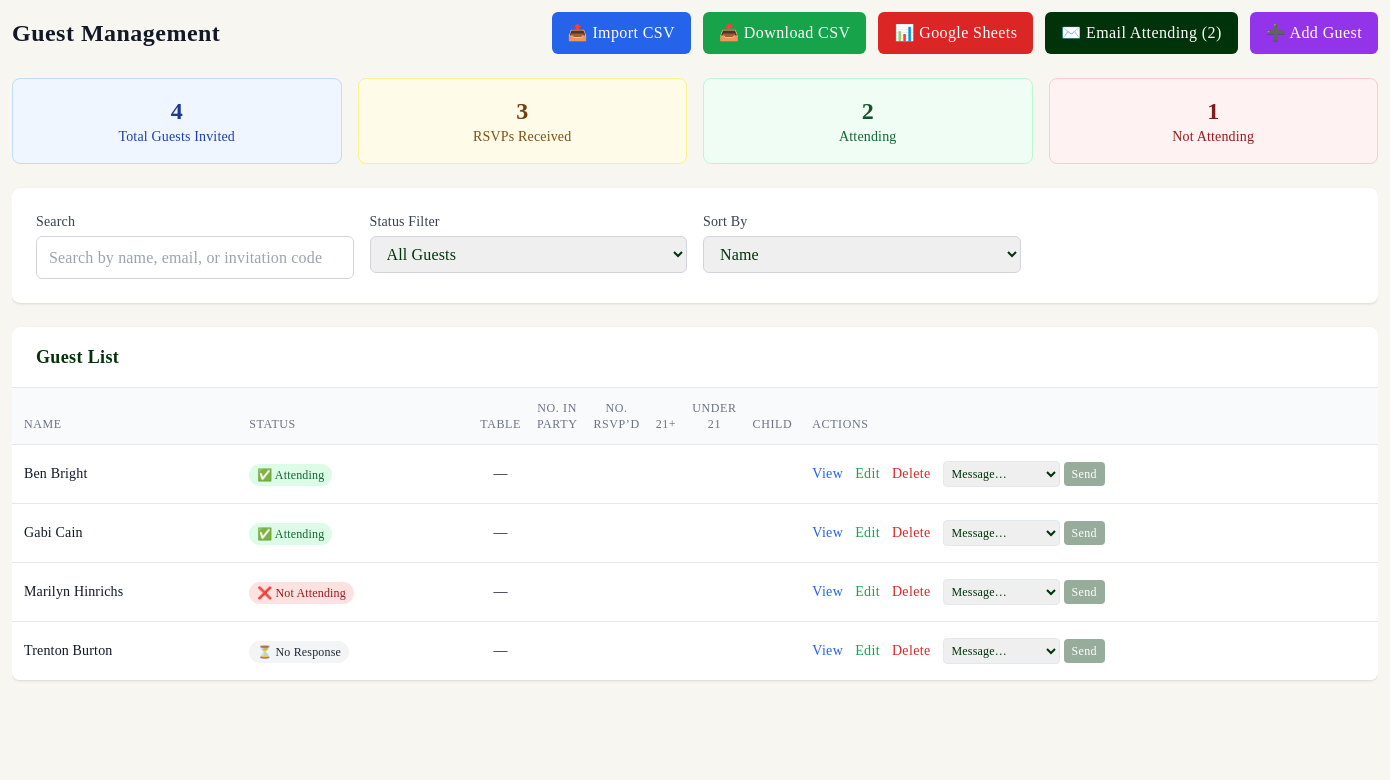
agrees with the RSVPs Received stat card
Expected: the text "Gabi Cain" is shown, [24,525,83,540]
Select "RSVPs Received" in the dropdown labelled "Status Filter" at [528, 254], box [370,236,687,273]
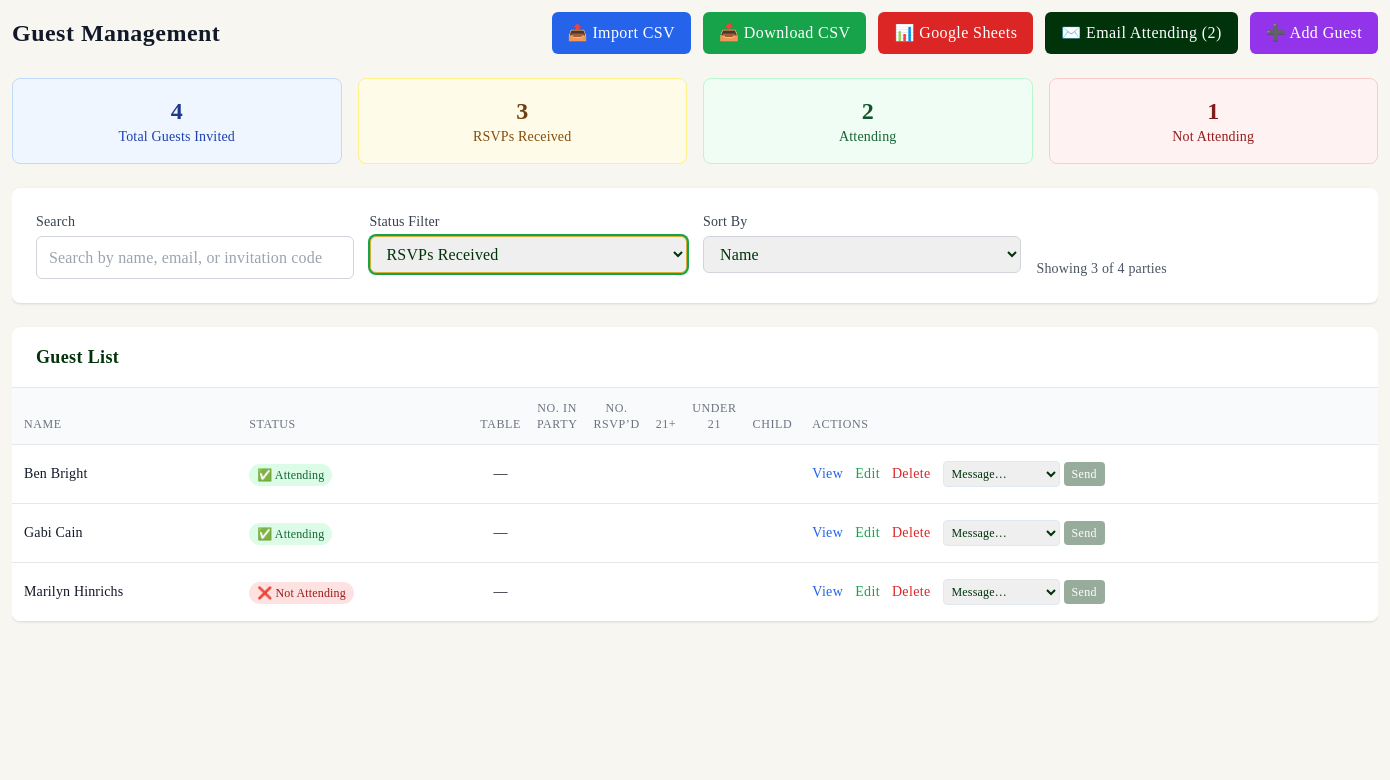
Now the text "Showing 3 of 4 parties" is shown, box [1036,259,1167,279]
